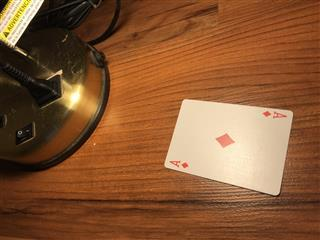AceOfDiamonds: (164, 98, 293, 196)
